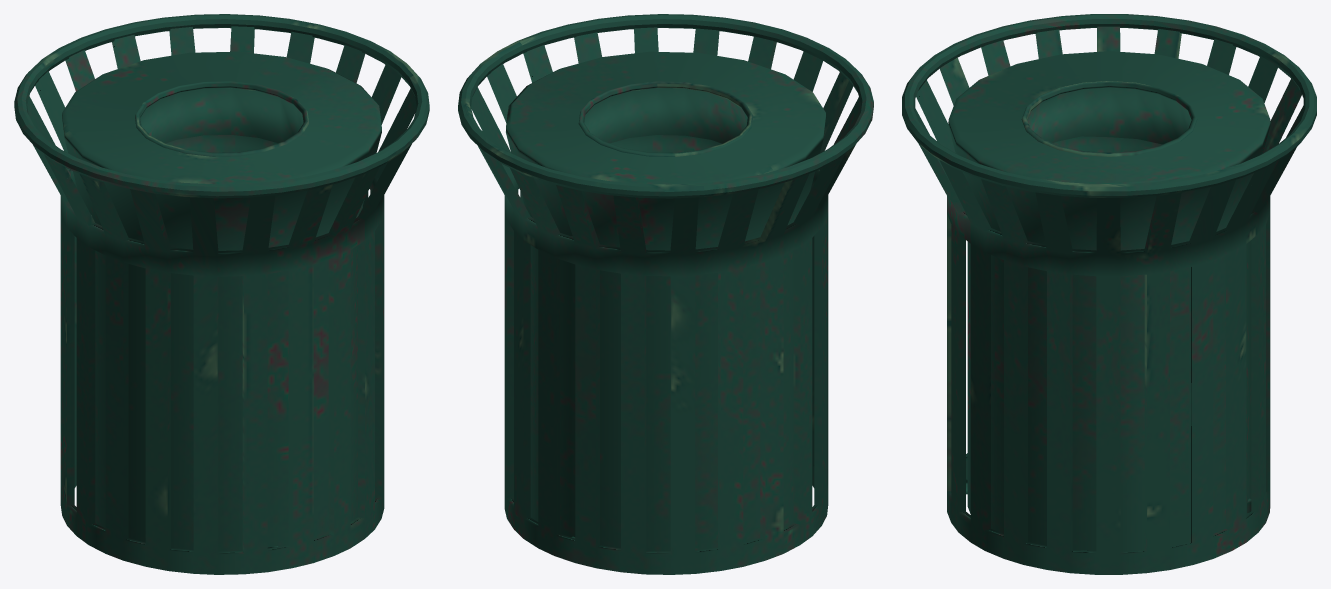
The model's file is trashcan4.glb.
3 views of the same model, side by side, from view 1: azimuth 30°, elevation 25°; view 2: azimuth 150°, elevation 25°; view 3: azimuth 270°, elevation 25° (orthographic).
Visible parts, largest first — view 1: TrashCanLarge_TrashCanLarge_shader_0; view 2: TrashCanLarge_TrashCanLarge_shader_0; view 3: TrashCanLarge_TrashCanLarge_shader_0.
Part boxes in pixels (left/top/right/bottom): TrashCanLarge_TrashCanLarge_shader_0: left=14, top=14, right=429, bottom=574; TrashCanLarge_TrashCanLarge_shader_0: left=458, top=14, right=873, bottom=574; TrashCanLarge_TrashCanLarge_shader_0: left=902, top=14, right=1316, bottom=574.
Size of the model in its own units: 0.8925 by 0.9664 by 0.8925.
Materials: 1 (1 with a texture image).
